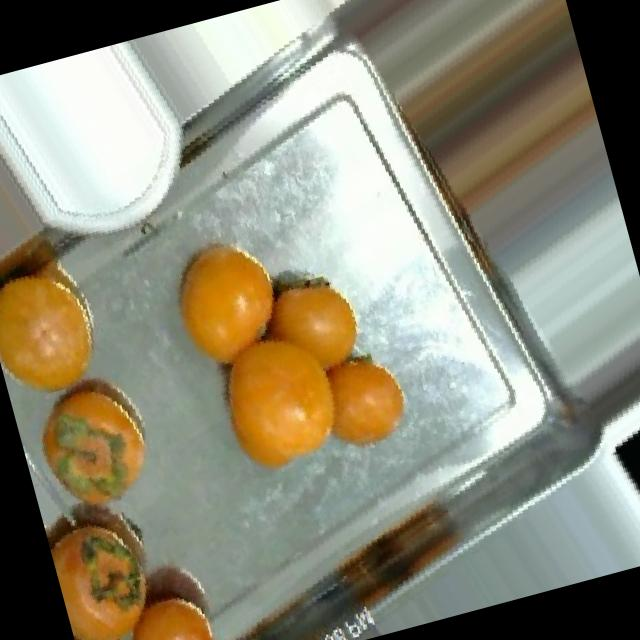Fruit: (9, 346, 178, 534), (141, 204, 312, 388), (0, 229, 129, 420), (38, 476, 184, 640), (93, 541, 246, 640), (586, 378, 640, 568)
